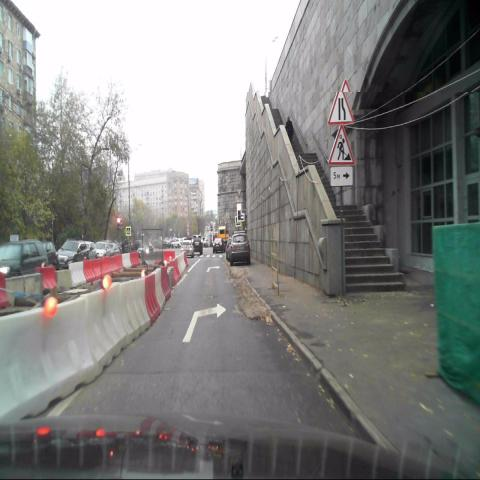1_25: (329, 122, 354, 165)
8_1_3: (331, 164, 353, 187)
